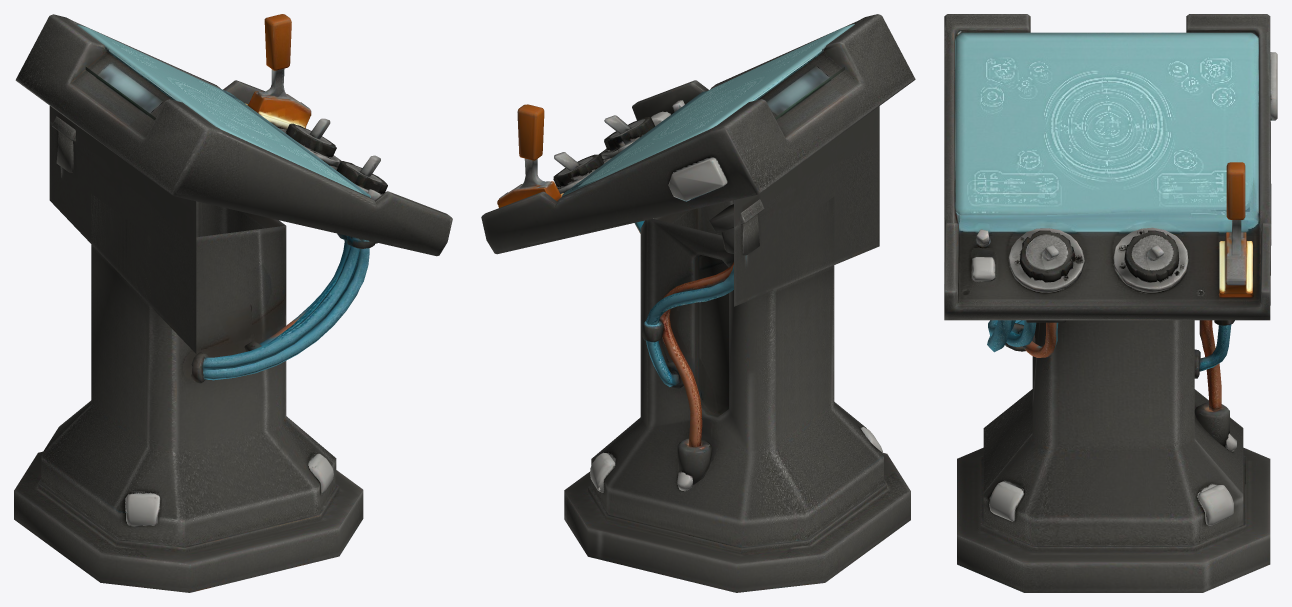
Rendered from tripo_convert_bafc24b9-7d99-469c-a8e3-fe5bad40d40a.fbx.
3 views of the same model, side by side, from view 1: azimuth 30°, elevation 25°; view 2: azimuth 150°, elevation 25°; view 3: azimuth 270°, elevation 25° (orthographic). The views are drawn at different scales.
Visible parts, largest first — view 1: tripo_node_bafc24b9; view 2: tripo_node_bafc24b9; view 3: tripo_node_bafc24b9.
Boxes of the visible parts, x1,y1,x2,y2 form: tripo_node_bafc24b9: (14,14,452,592); tripo_node_bafc24b9: (481,14,915,592); tripo_node_bafc24b9: (944,14,1277,592).
Bounding box in the file's own units: 0.7051 × 0.998 × 0.627.
Materials: 1 (1 with a texture image).
